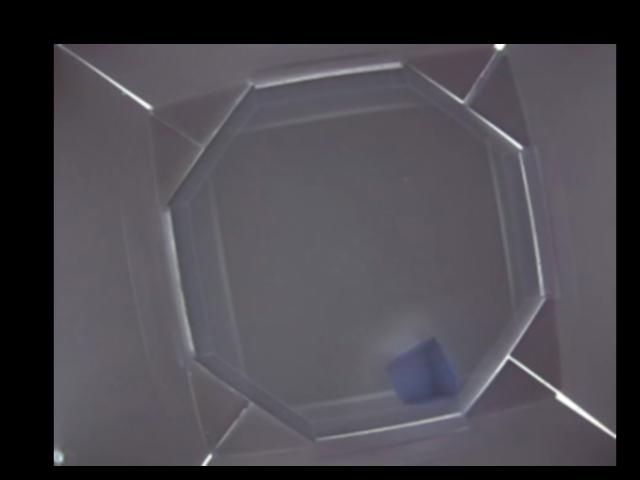Mooli: (385, 334, 457, 408)
